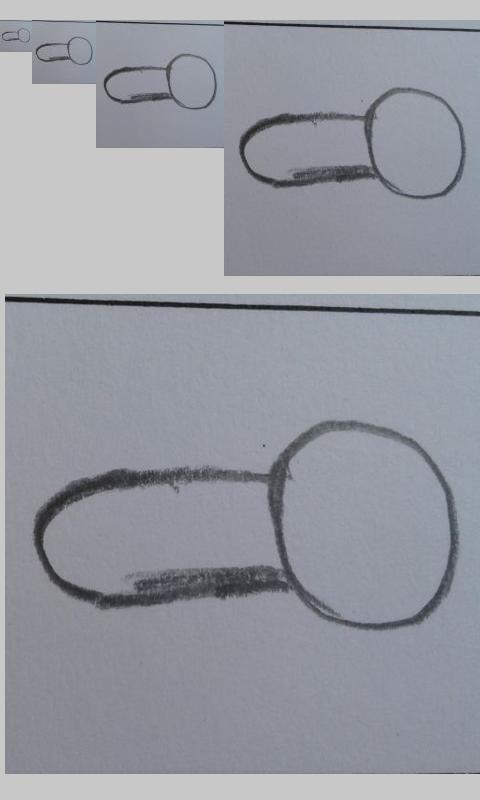switch: (33, 420, 461, 632), (238, 87, 467, 201), (103, 53, 218, 110), (35, 36, 93, 65), (1, 27, 31, 43)
